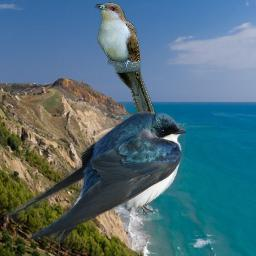Cuckoo: (94, 2, 159, 128)
Swallow: (4, 111, 186, 243)
